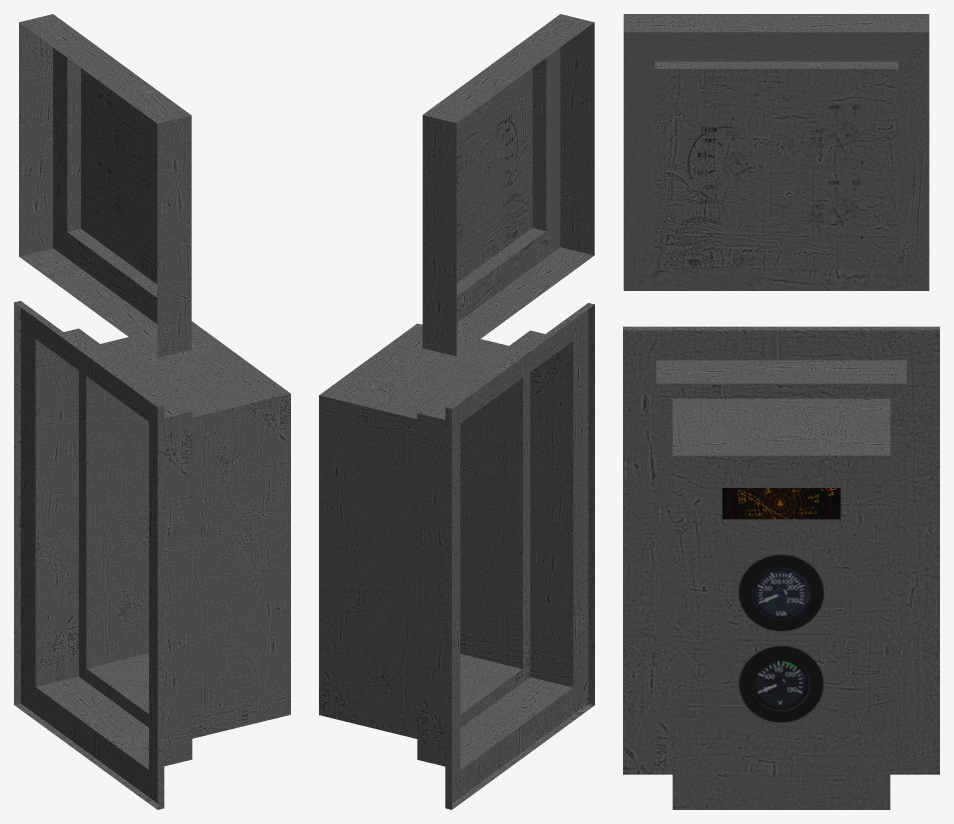
Rendered from p6_cic_mech_panel_a_white_lod1.glb.
3 views of the same model, side by side, from view 1: azimuth 30°, elevation 25°; view 2: azimuth 150°, elevation 25°; view 3: azimuth 270°, elevation 25° (orthographic). The views are drawn at different scales.
Visible parts, largest first — view 1: surf0; view 2: surf0; view 3: surf0, surf1.
Part boxes in pixels (x1,y1,x2,y2): surf0: (14,14,290,809); surf0: (319,14,594,809); surf0: (623,14,939,809); surf1: (722,488,840,519).
Bounding box in the file's own units: 12.32 × 51.82 × 19.65.
